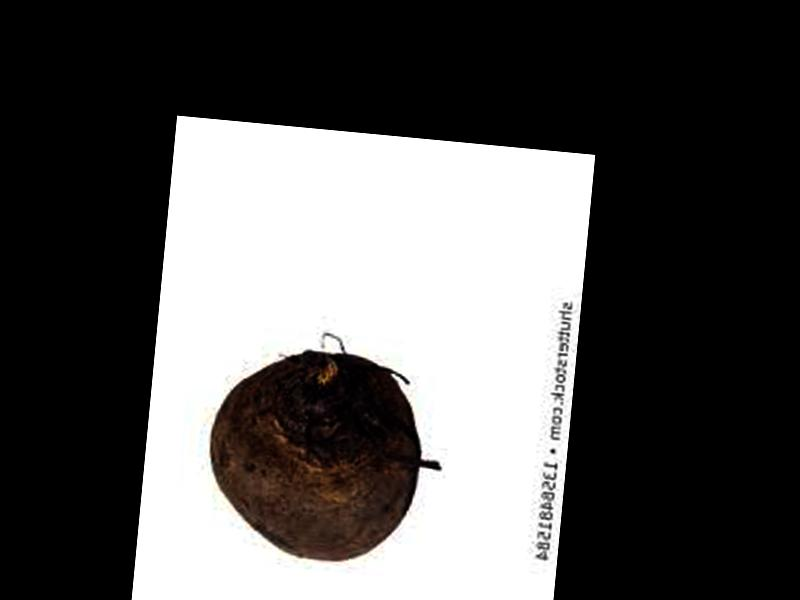Beet: (200, 344, 427, 570)
